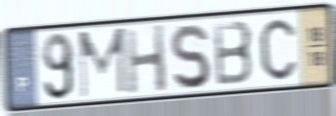9: (40, 29, 77, 103)
B: (210, 18, 255, 89)
C: (257, 16, 298, 83)
H: (123, 22, 170, 97)
M: (77, 25, 129, 102)
S: (168, 21, 212, 92)
